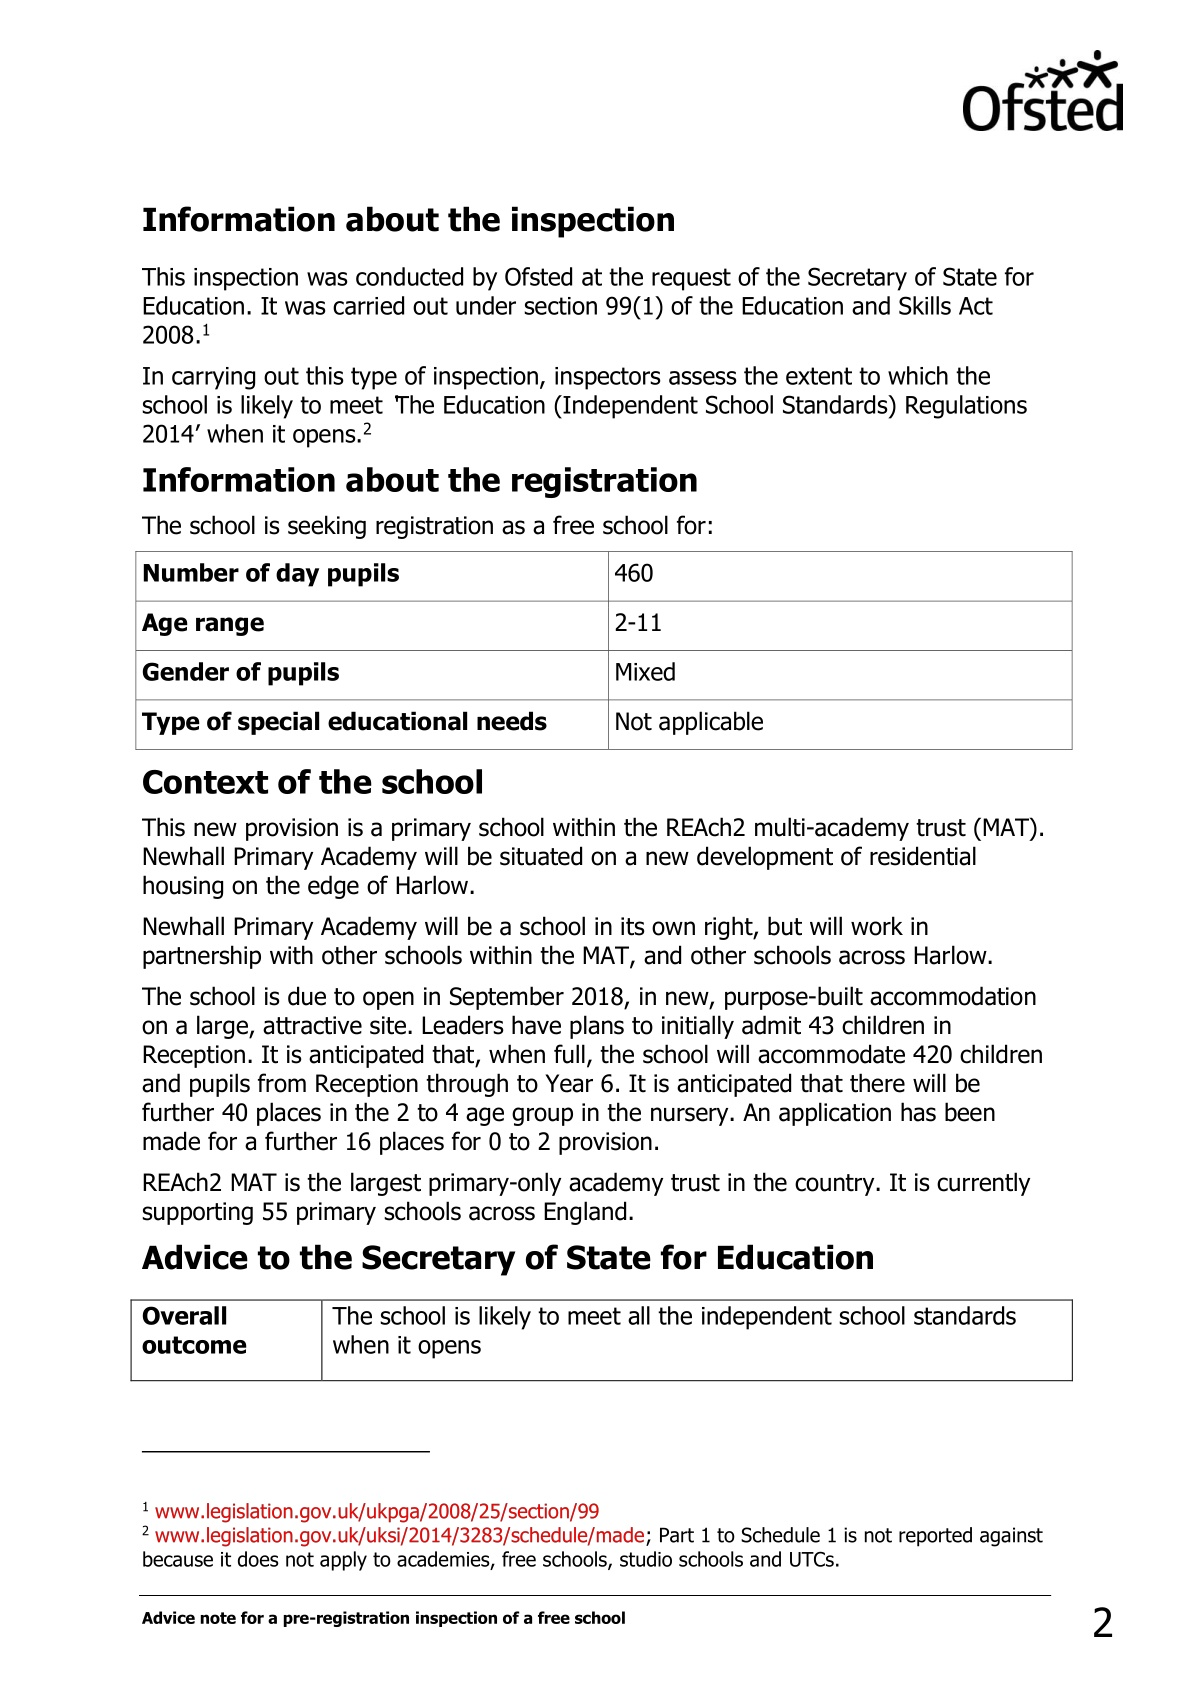full_lined: (134, 548, 1074, 751), (129, 1296, 1074, 1383)
